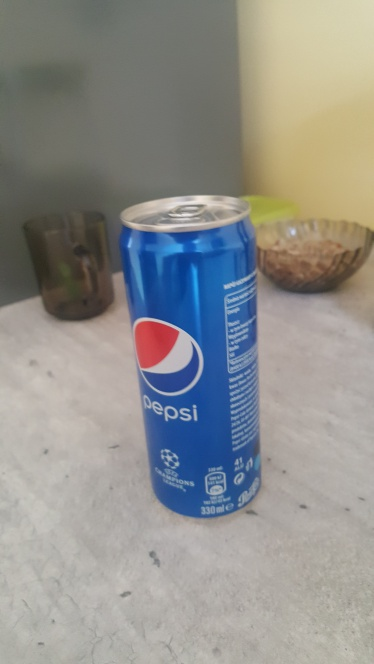pepsi: (113, 186, 284, 530)
